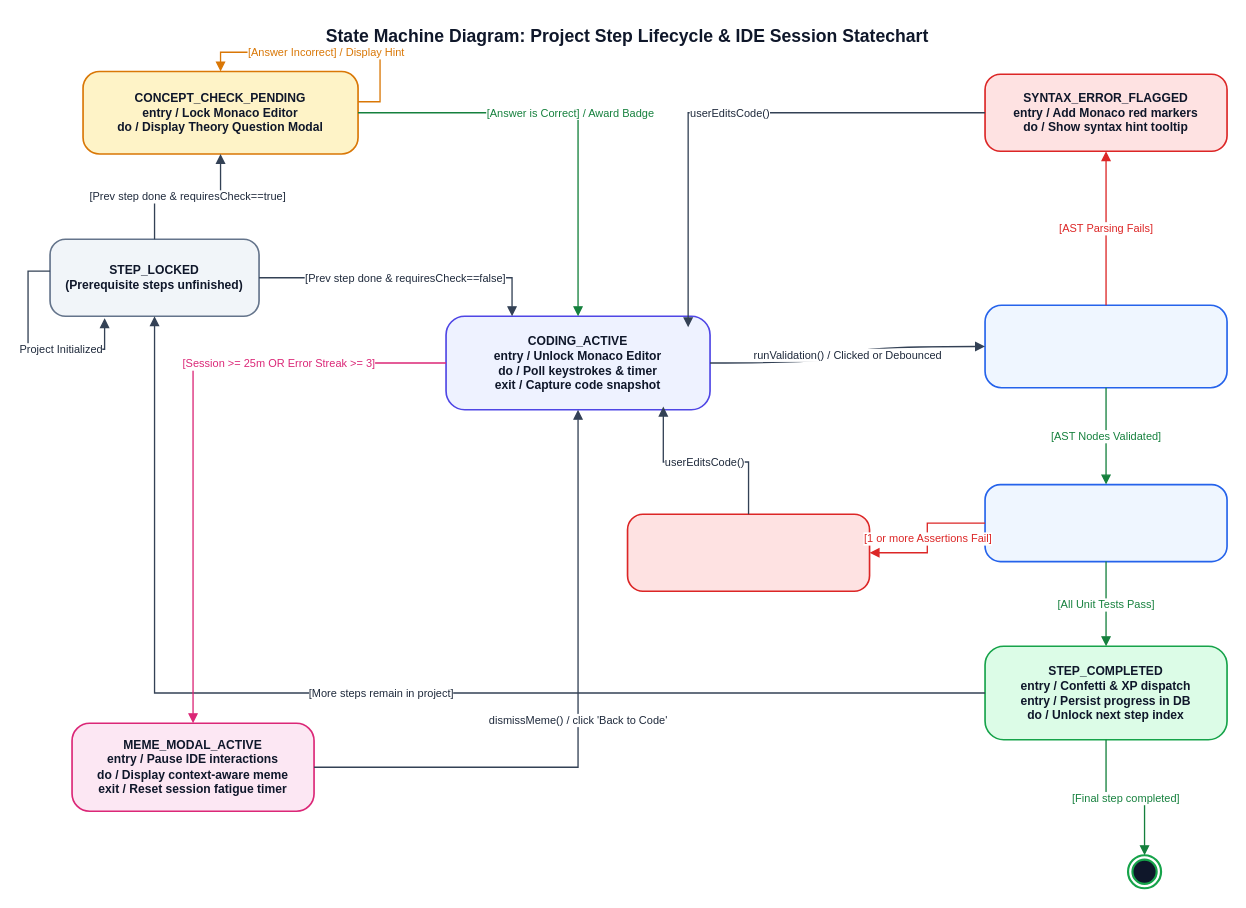
Some shapes in this 1246 by 908 pixel diagram are drawn without their labels. Here are the shapes that lost their labels. From the top down, the box of each, then its label:
(984, 304, 1227, 388): VALIDATING_AST do / Parse code into AST do / Check required syntax nodes
(984, 483, 1227, 562): UNIT_TESTS_RUNNING do / Execute Jest specs in sandbox
(626, 513, 870, 592): TESTS_FAILED entry / Render assertion failure do / Show contextual hint
